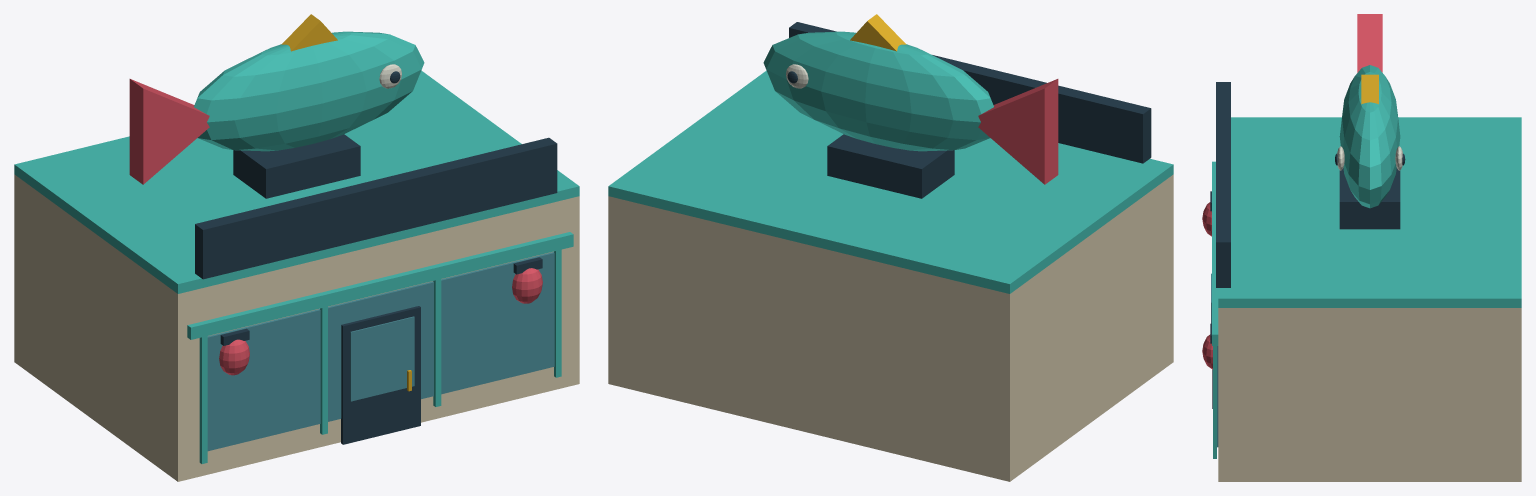
The model's file is sushi.glb.
3 views of the same model, side by side, from view 1: azimuth 30°, elevation 25°; view 2: azimuth 150°, elevation 25°; view 3: azimuth 270°, elevation 25° (orthographic). The views are drawn at different scales.
Visible parts, largest first — view 1: sushi; view 2: sushi; view 3: sushi.
Part boxes in pixels (x1,y1,x2,y2): sushi: (14, 14, 579, 481); sushi: (608, 14, 1173, 481); sushi: (1202, 14, 1521, 481).
Size of the model in its own units: 8.5 by 7.1 by 6.32.
